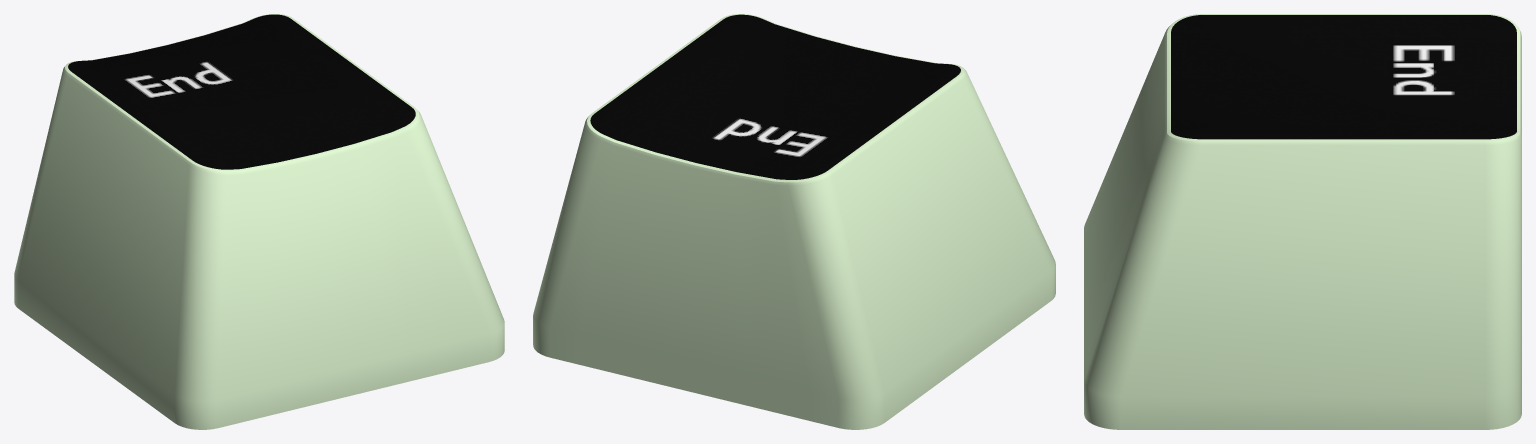
The model's file is end.glb.
3 renders of one model, left to right at view 1: azimuth 30°, elevation 25°; view 2: azimuth 150°, elevation 25°; view 3: azimuth 270°, elevation 25°, orthographic. The views are drawn at different scales.
Parts seen in each view (by area): view 1: keycap_end; view 2: keycap_end; view 3: keycap_end.
Part boxes in pixels (x1,y1,x2,y2): keycap_end: (14,14,504,429); keycap_end: (533,14,1055,429); keycap_end: (1084,14,1521,429).
Bounding box in the file's own units: 0.018 × 0.0118 × 0.018.
Materials: 2 (1 with a texture image).
